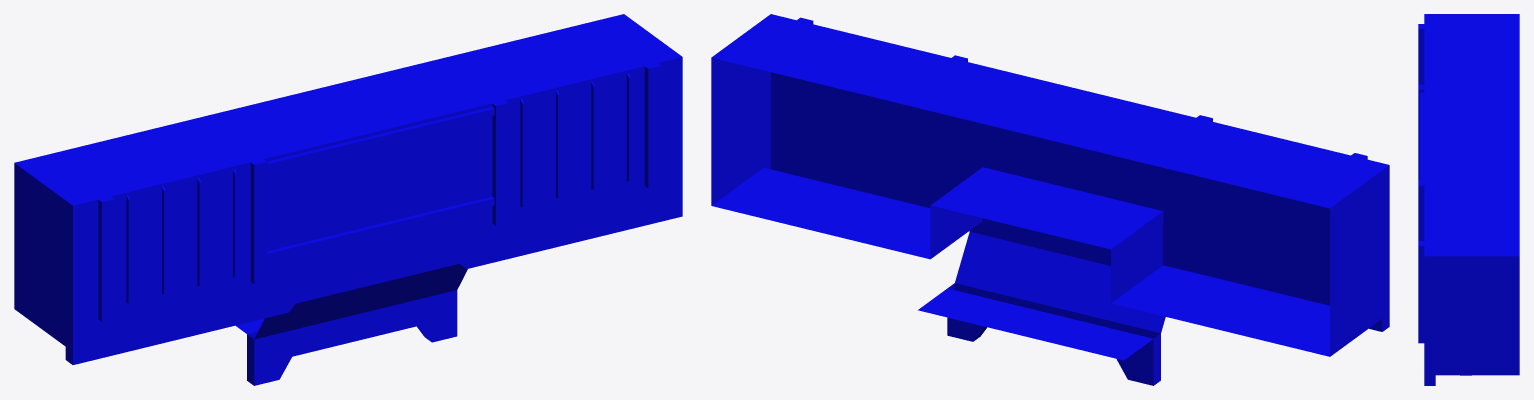
File: Bof_PartUp.fbx
3 renders of one model, left to right at view 1: azimuth 30°, elevation 25°; view 2: azimuth 150°, elevation 25°; view 3: azimuth 270°, elevation 25°, orthographic. The views are drawn at different scales.
Parts seen in each view (by area): view 1: Bof_PartUp; view 2: Bof_PartUp; view 3: Bof_PartUp.
Boxes of the visible parts, x1,y1,x2,y2 form: Bof_PartUp: (14,14,682,385); Bof_PartUp: (711,14,1389,385); Bof_PartUp: (1418,14,1519,385).
Bounding box in the file's own units: 1200 × 463 × 213.
